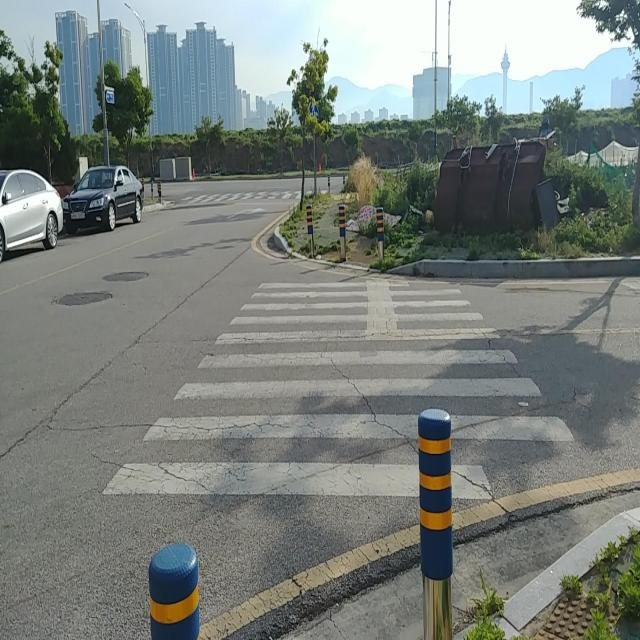횡단보도: (100, 280, 578, 502), (168, 189, 328, 206)
